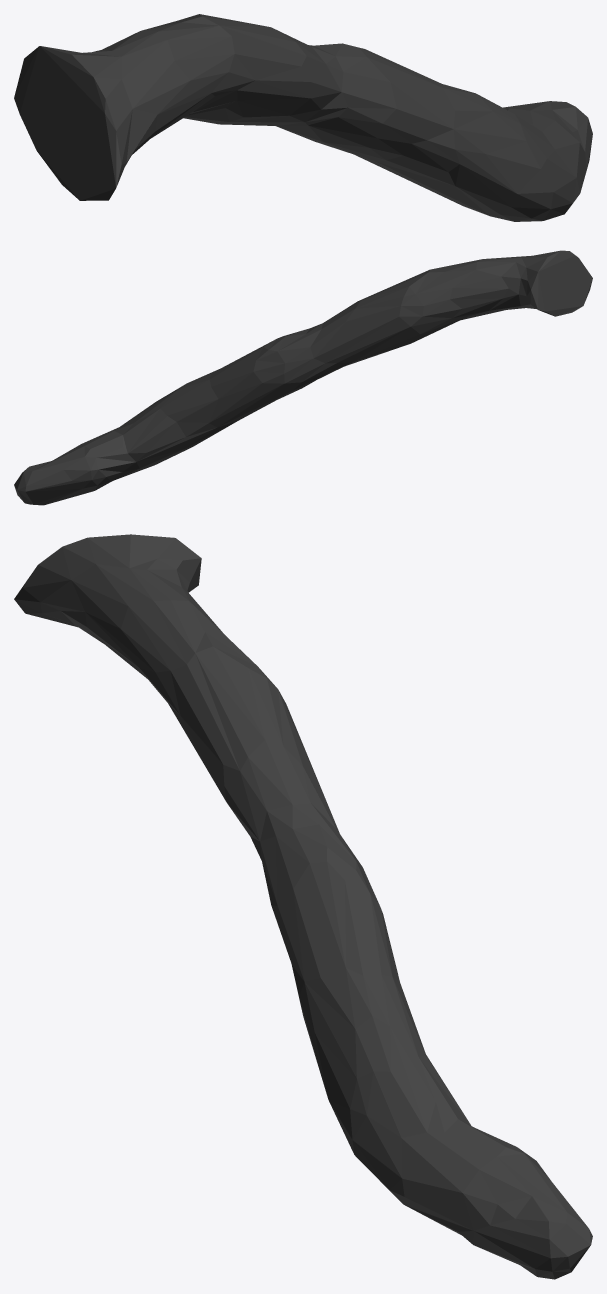
File: Deep_circumflex_vv_L.glb
The picture shows the model from 3 angles, top to bottom: view 1: azimuth 30°, elevation 25°; view 2: azimuth 150°, elevation 25°; view 3: azimuth 270°, elevation 25°; orthographic projection. The views are drawn at different scales.
Visible parts, largest first — view 1: Deep_circumflex_vv_L; view 2: Deep_circumflex_vv_L; view 3: Deep_circumflex_vv_L.
Boxes of the visible parts, box(x1,y1,x2,y2) form: Deep_circumflex_vv_L: box(14, 14, 592, 221); Deep_circumflex_vv_L: box(14, 250, 592, 505); Deep_circumflex_vv_L: box(14, 534, 592, 1279).
Size of the model in its own units: 0.226 by 0.1291 by 0.16.
1 material, 1 textured.
